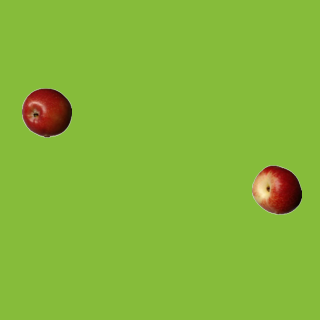Apple Braeburn: (21, 87, 71, 137)
Nectarine: (251, 164, 301, 214)
